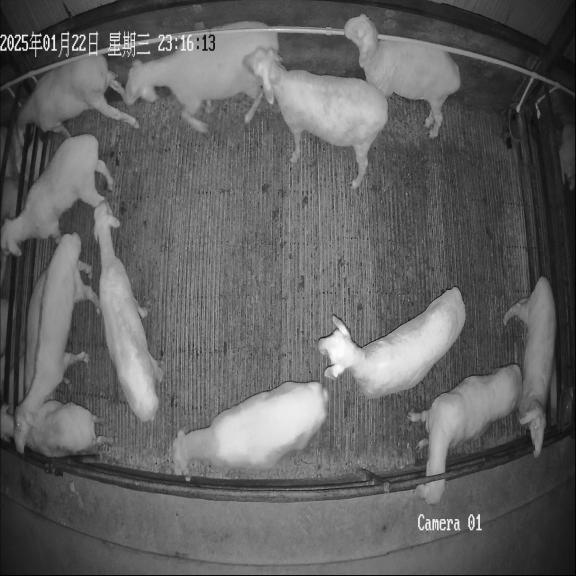drinking: (17, 55, 138, 144)
lying: (24, 270, 47, 395)
stand: (244, 48, 388, 189), (17, 233, 99, 452), (124, 21, 278, 133), (318, 287, 465, 398), (407, 364, 522, 503), (171, 381, 328, 481), (94, 203, 163, 422), (344, 14, 460, 137), (1, 134, 113, 256), (505, 277, 556, 457), (0, 400, 112, 457)
